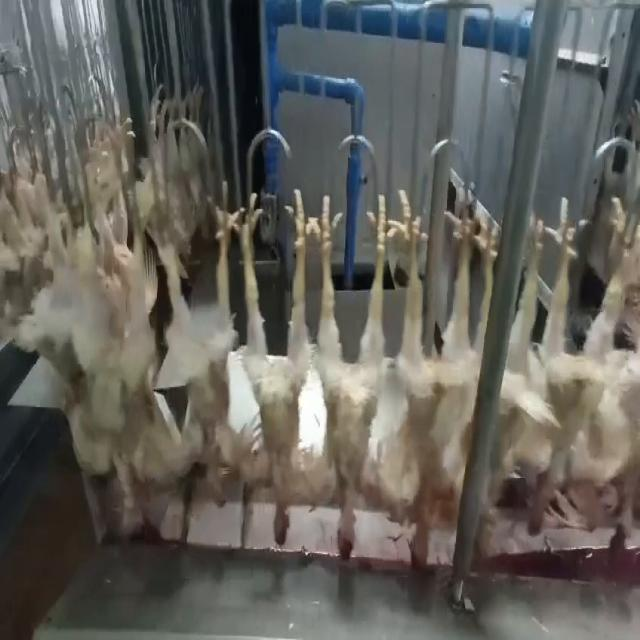chicken: (386, 188, 498, 570), (308, 192, 392, 565), (229, 191, 310, 552), (156, 196, 242, 511), (498, 198, 578, 536), (577, 191, 638, 567), (92, 197, 163, 507)
